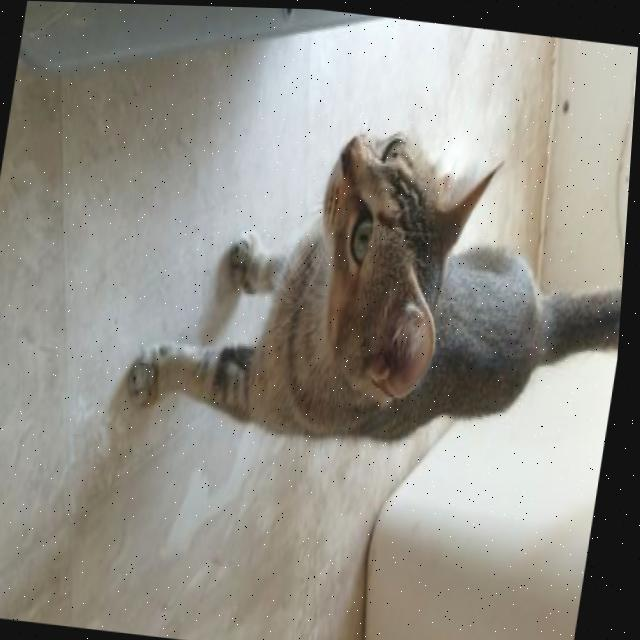Abyssinian: (117, 98, 635, 481)
